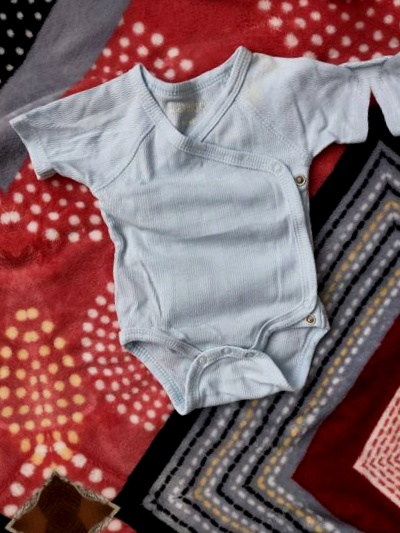Body: (0, 16, 400, 439), (0, 83, 35, 506), (362, 0, 400, 376), (90, 531, 400, 533)
